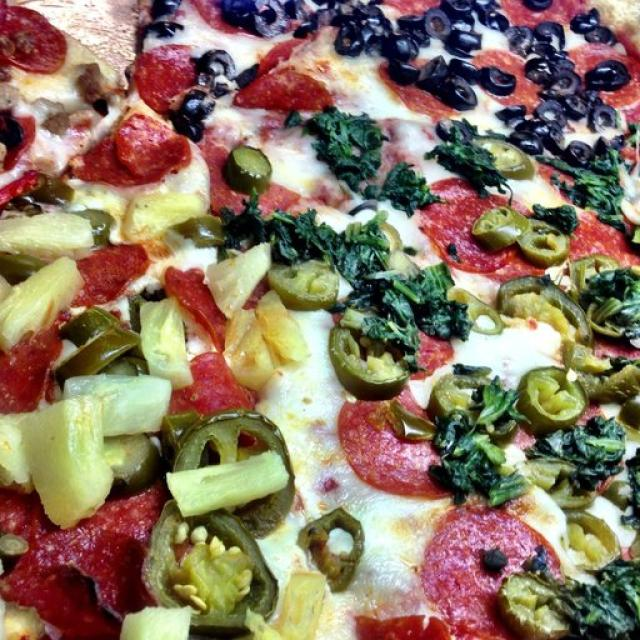Jalapenoes: (150, 508, 267, 634), (183, 414, 302, 531), (528, 351, 640, 421), (336, 321, 410, 396), (510, 282, 591, 345), (444, 376, 511, 438), (64, 314, 136, 371), (481, 213, 562, 259), (506, 577, 560, 640), (268, 261, 339, 304), (567, 516, 621, 570), (222, 148, 284, 194), (483, 140, 529, 175), (82, 210, 114, 243)
Olives: (516, 12, 618, 132), (278, 0, 387, 50), (392, 10, 441, 84), (446, 66, 508, 107), (221, 0, 280, 38), (514, 130, 585, 160), (510, 101, 554, 149), (445, 1, 503, 32), (445, 0, 481, 45), (142, 0, 176, 41), (174, 118, 216, 148), (465, 67, 516, 90), (200, 53, 236, 83), (186, 86, 218, 113)
Pepperoni: (367, 511, 543, 636), (15, 542, 140, 639), (3, 493, 155, 545), (346, 400, 430, 491), (237, 39, 328, 111), (425, 179, 494, 268), (0, 330, 63, 416), (0, 7, 70, 72), (178, 345, 245, 411), (166, 266, 228, 335), (65, 144, 158, 189), (121, 119, 192, 174), (81, 244, 145, 302), (136, 47, 190, 107), (575, 220, 627, 259), (424, 344, 455, 378)
Pizza: (0, 0, 640, 640)
